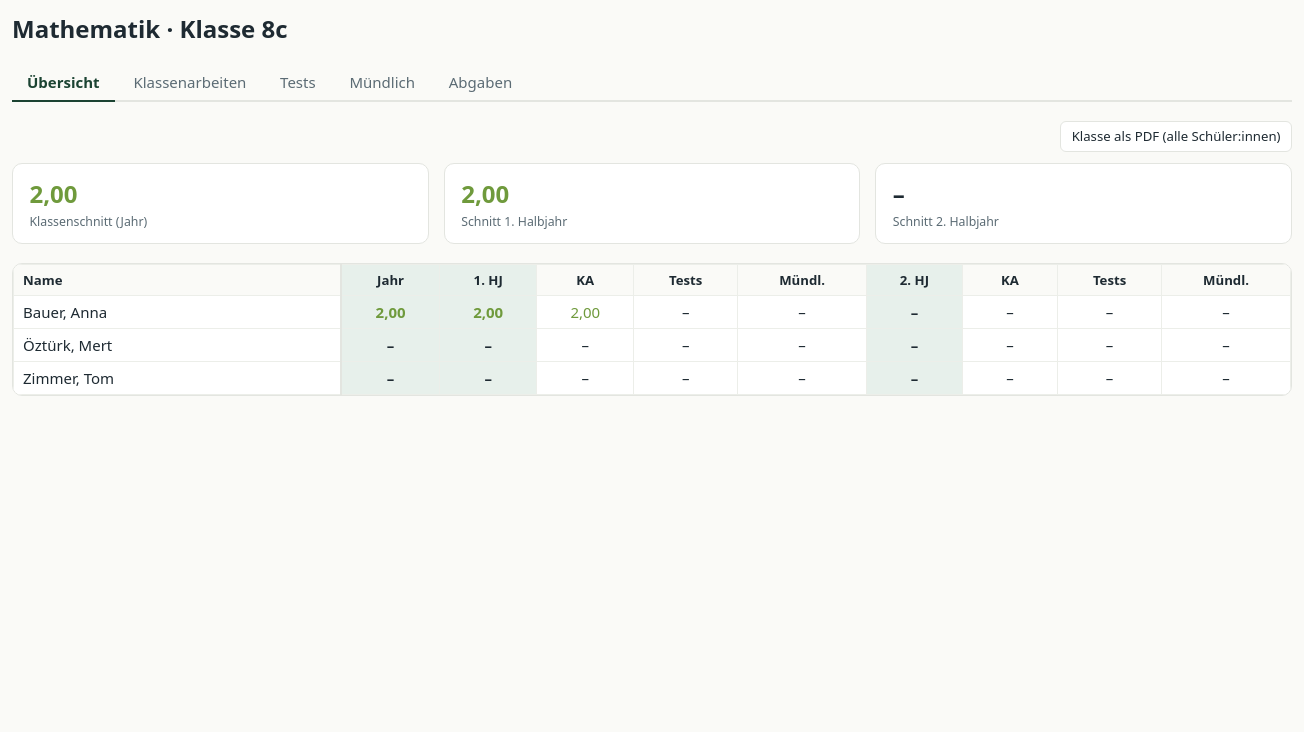
Test: GradesView — Spalten › verwirft einen leeren Spaltentitel und stellt den alten wieder her
This screenshot has width=1304, height=732.
Click the tab "Klassenarbeiten".
click(190, 83)  # box [118,64,261,102]
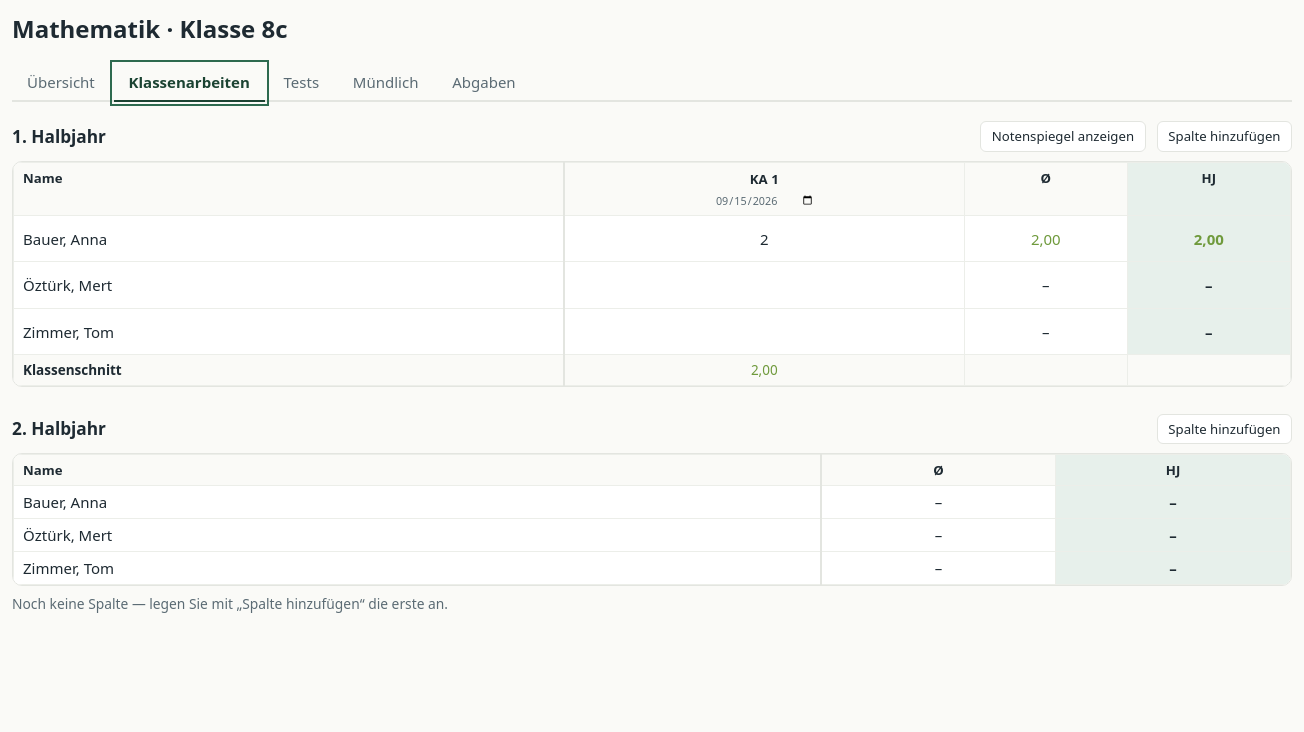
Clear the field with class "column-title" at {"x": 764, "y": 179}, box [723,168,806,190]
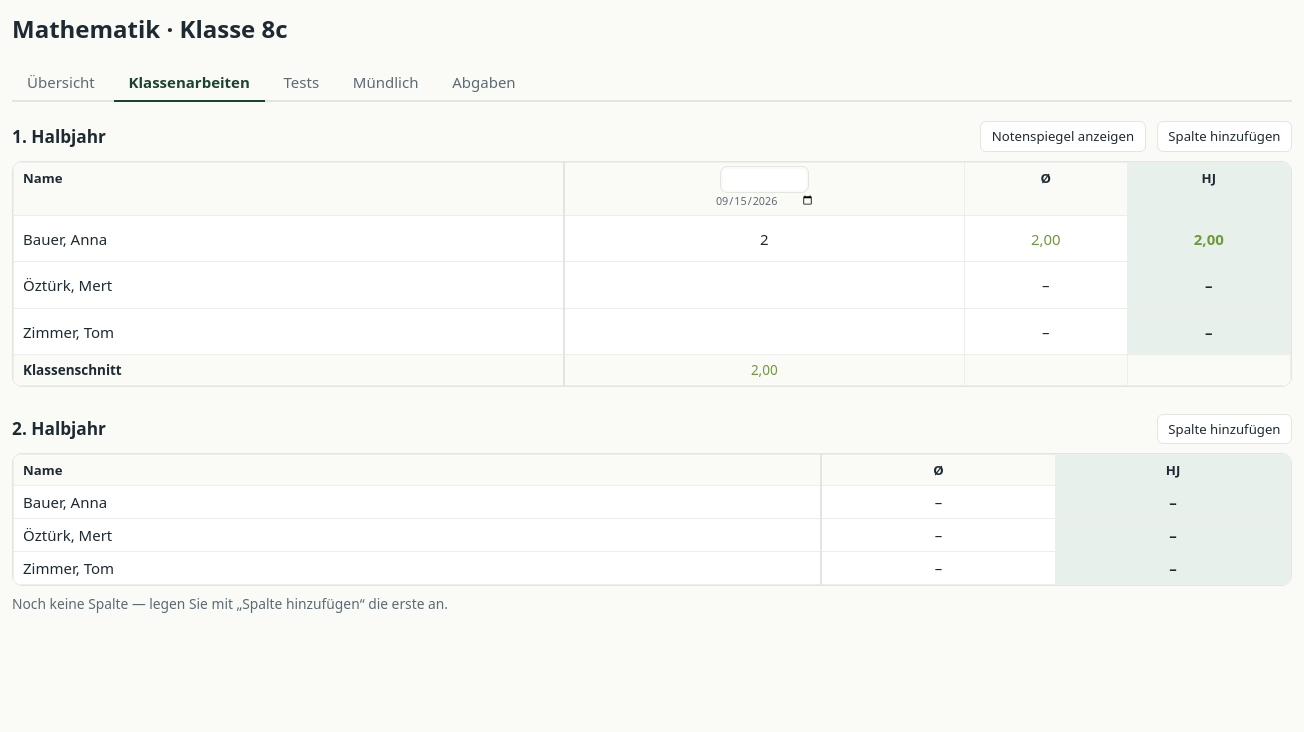
Press Tab
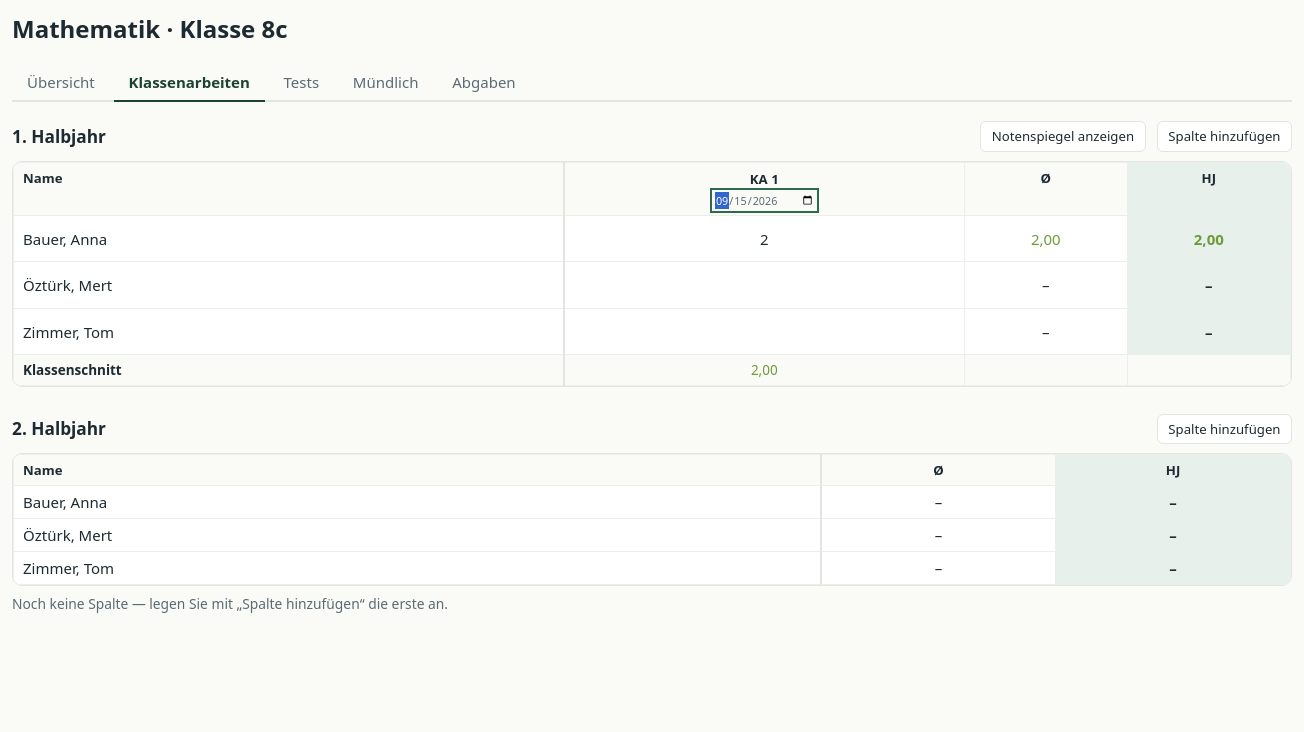
Now the field with class "column-title" holds "KA 1", box [723,168,806,190]
